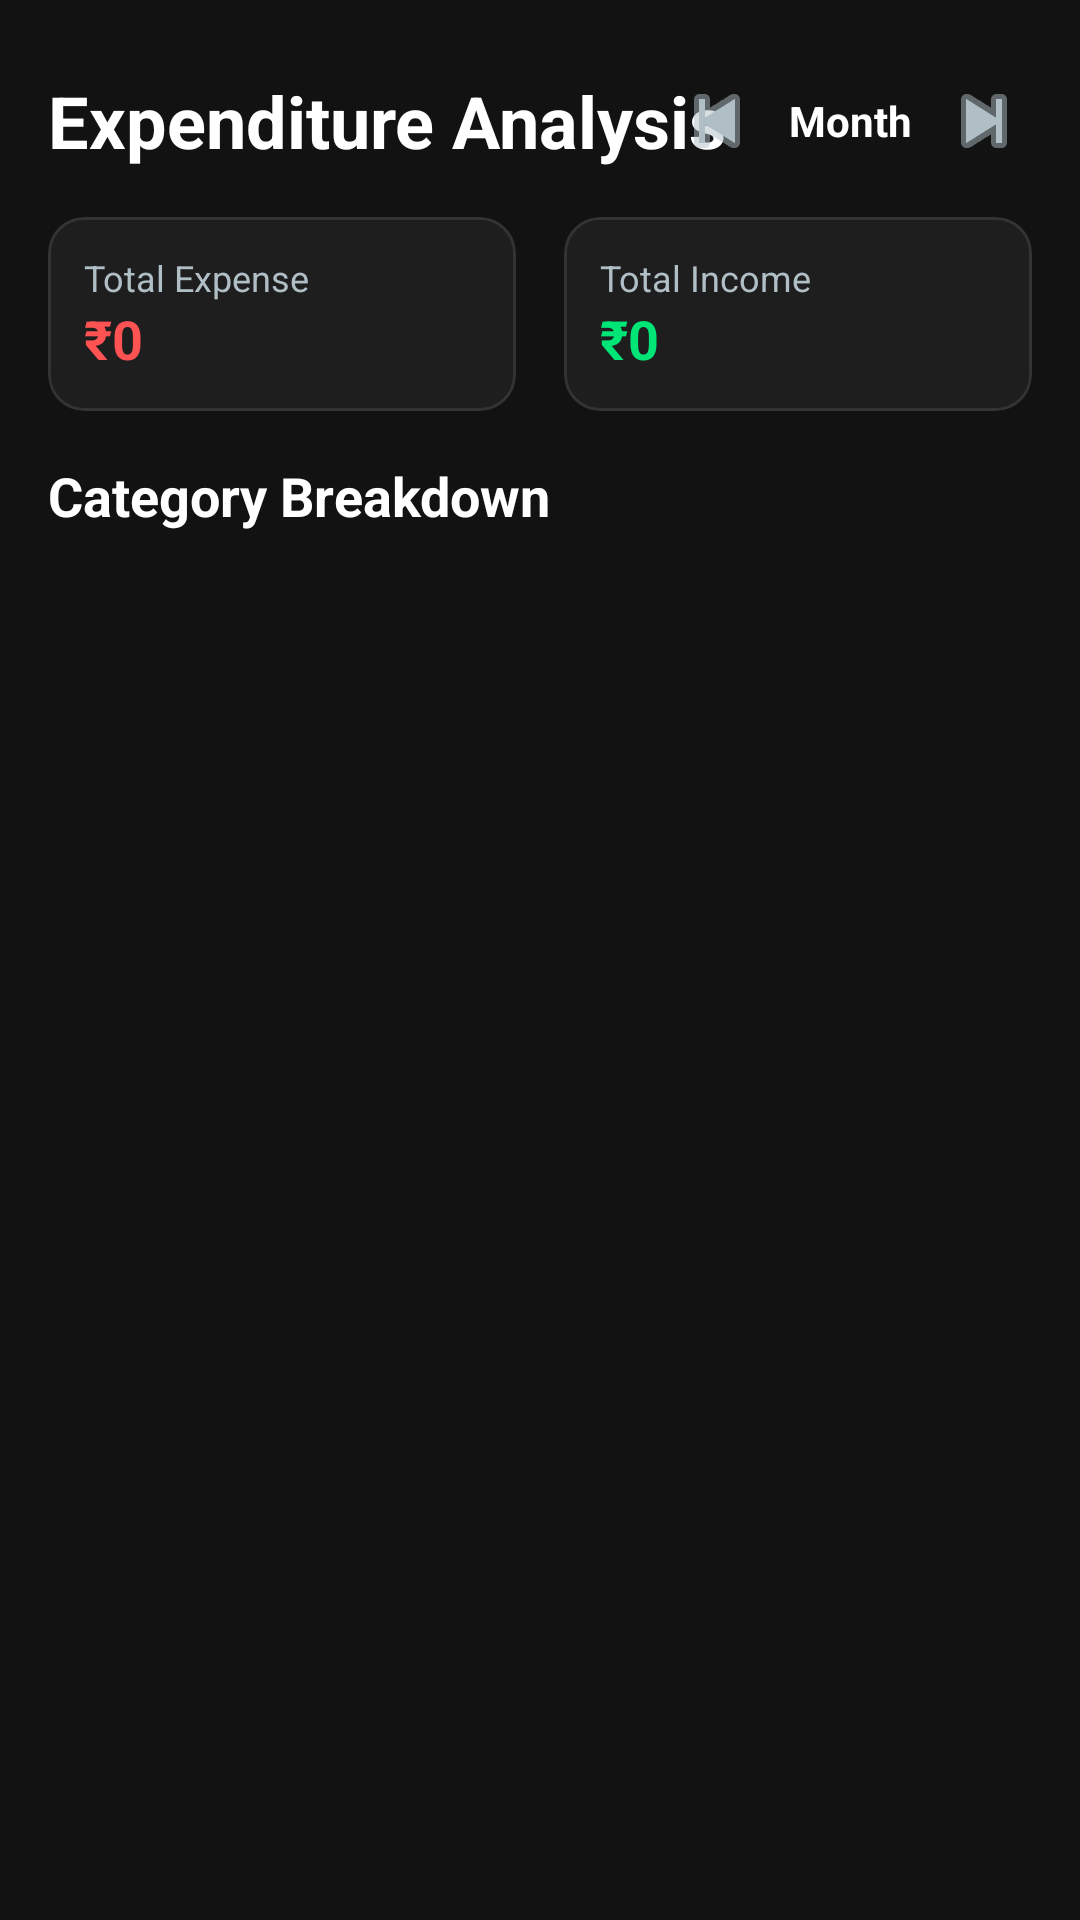

Named icons in this screenshot (1080x1920) and their bounding boxes, (x1, y1, x2, y2):
next: (961, 94, 1007, 148)
